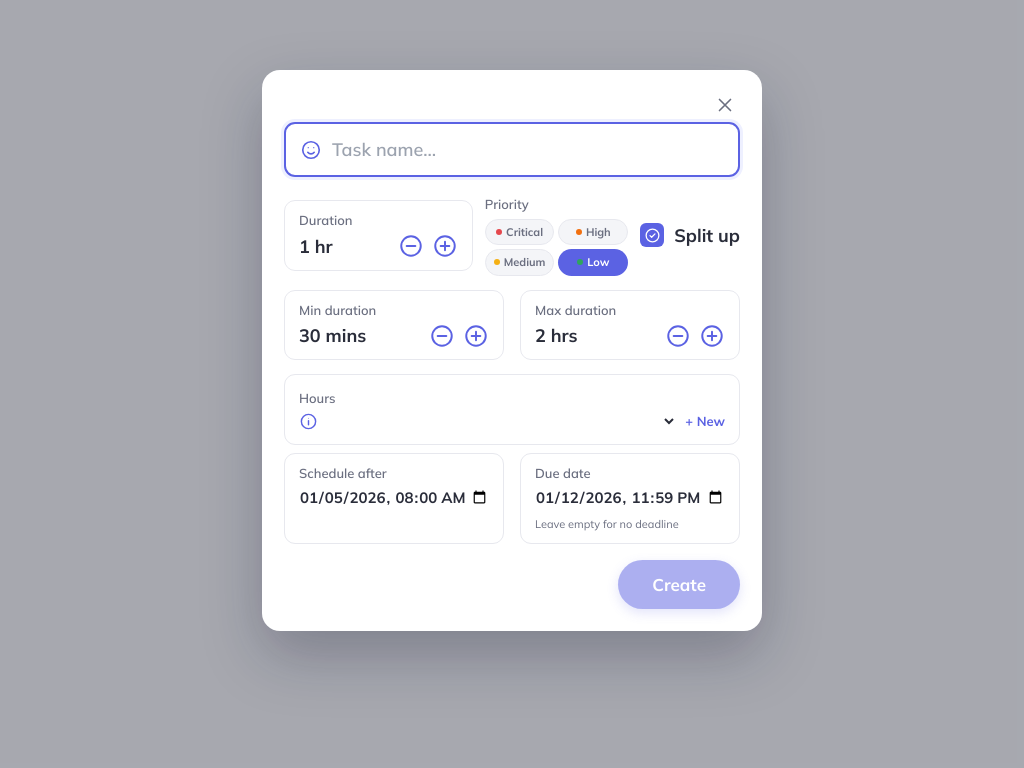
it: NewTaskModal › creates a new category and selects it
Click the button with test id "new-category-btn" at (705,422), box [685,412,725,431]
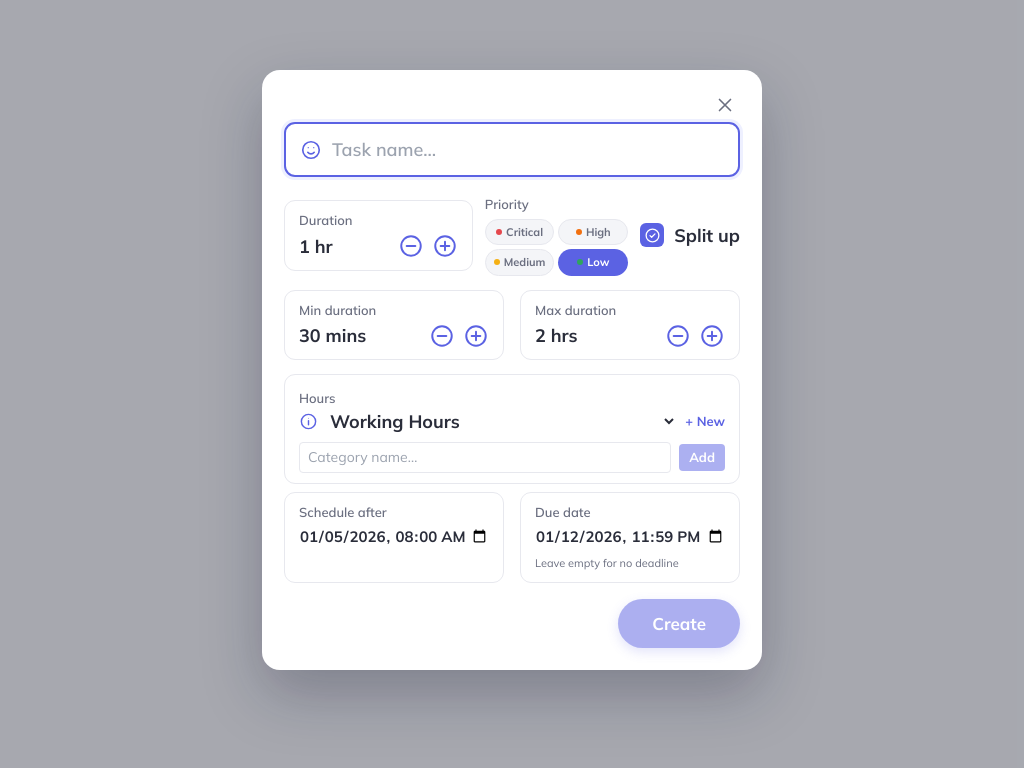
Type "Deep Work" into the field with test id "new-category-name" at (485,458), box [299,442,671,473]
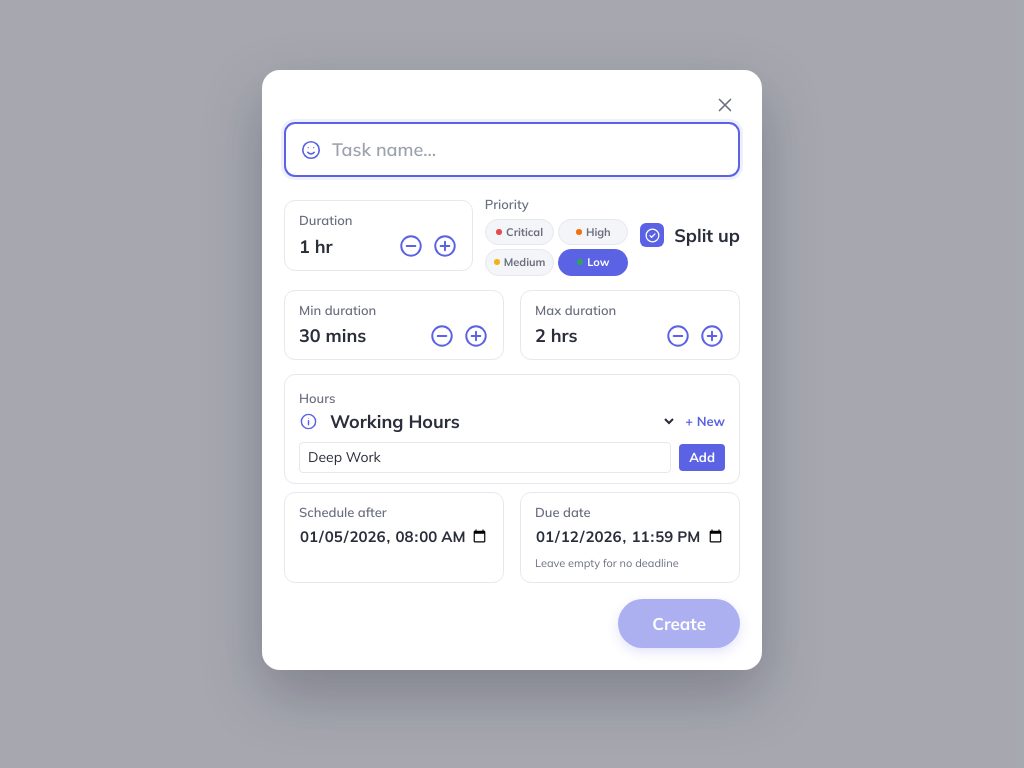
Click the button with test id "new-category-confirm" at (702,458), box [679,444,725,471]
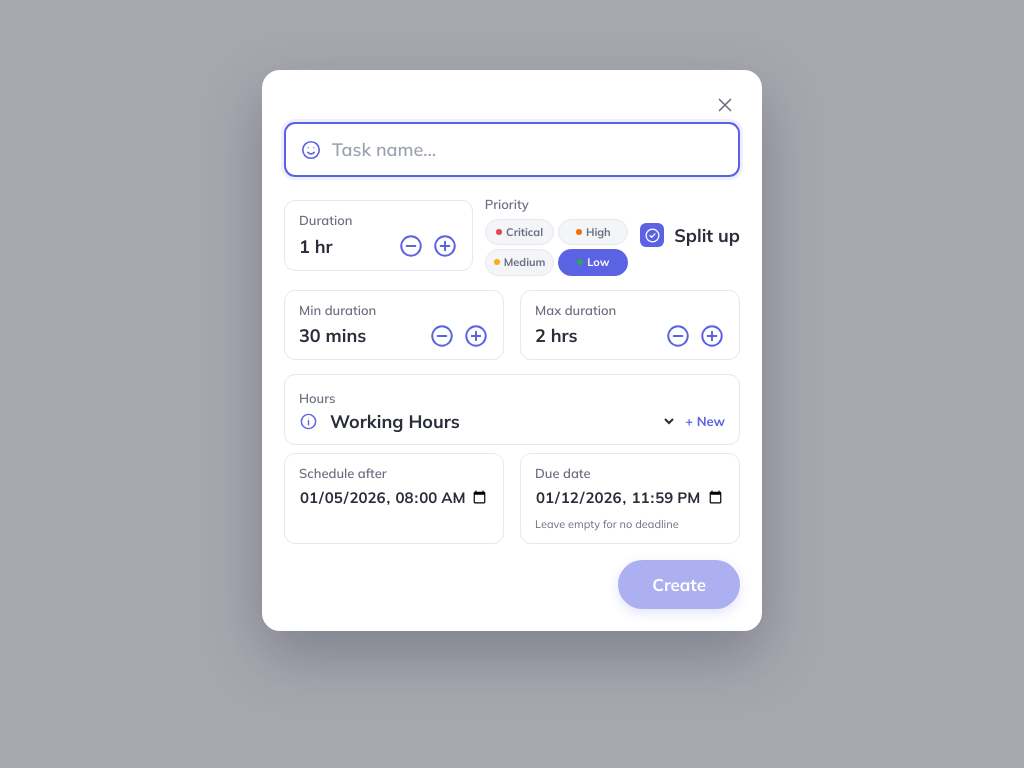
Expected: the field with test id "new-category-name" is gone
